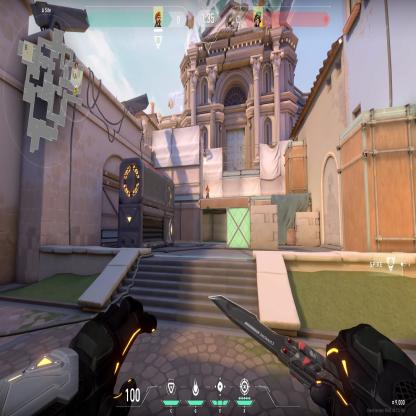enemy: (204, 183, 210, 199)
